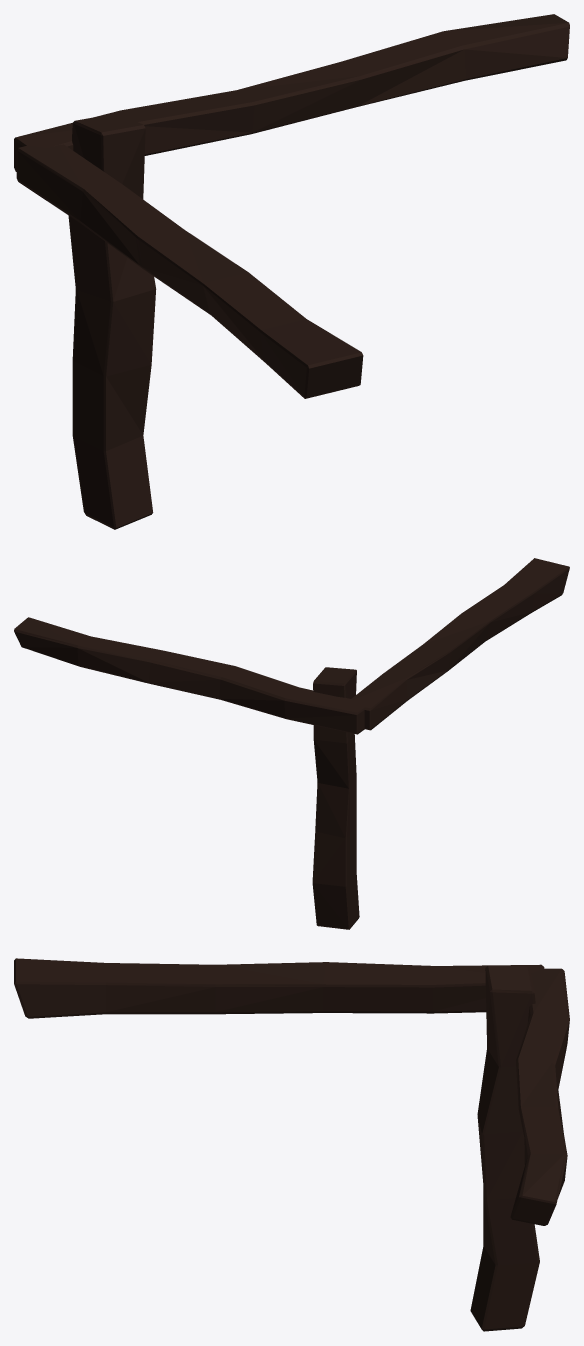
File: dinding2.obj
The picture shows the model from 3 angles, top to bottom: view 1: azimuth 30°, elevation 25°; view 2: azimuth 150°, elevation 25°; view 3: azimuth 270°, elevation 25°; orthographic projection. The views are drawn at different scales.
Parts seen in each view (by area): view 1: Plane.008_Plane.009; view 2: Plane.008_Plane.009; view 3: Plane.008_Plane.009.
Part boxes in pixels (x1=…): Plane.008_Plane.009: x1=14, y1=14, x2=569, y2=529; Plane.008_Plane.009: x1=14, y1=558, x2=569, y2=929; Plane.008_Plane.009: x1=14, y1=958, x2=569, y2=1331.
Bounding box in the file's own units: 8.7 × 5.9 × 8.6.
